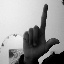l: (21, 3, 60, 53)
